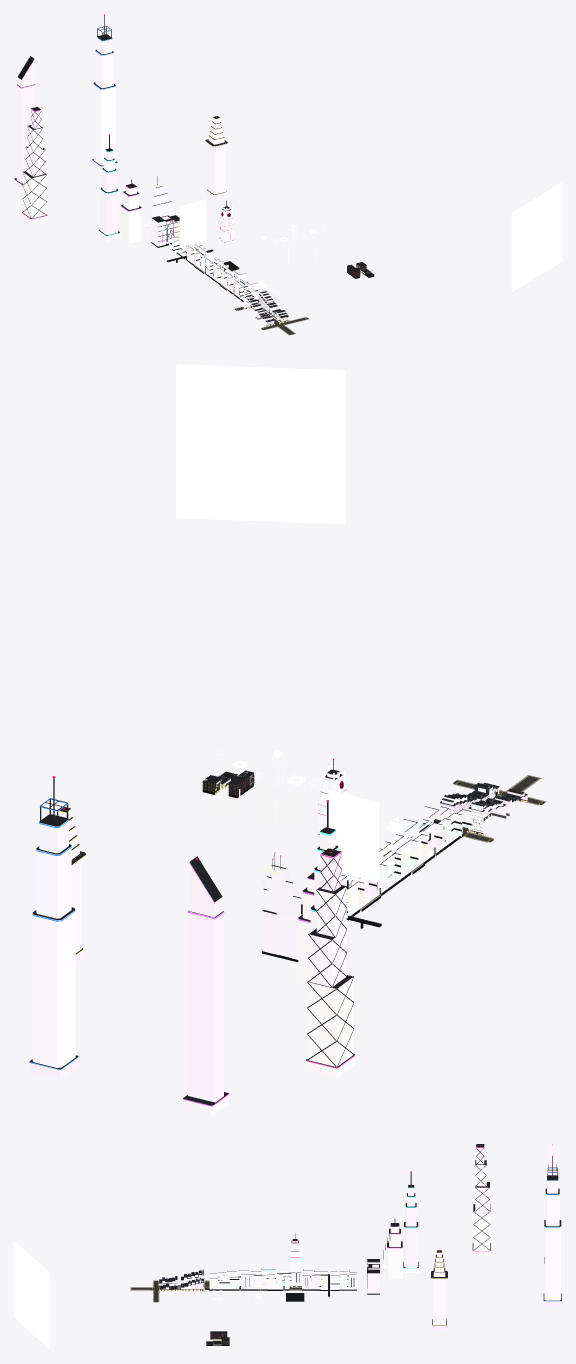
File: world-phone.glb
3 renders of one model, top to bottom at view 1: azimuth 30°, elevation 25°; view 2: azimuth 150°, elevation 25°; view 3: azimuth 270°, elevation 25°, orthographic. The views are drawn at different scales.
Visible parts, largest first — view 1: skyline_facade, moon_disc, far_facade_end, far_facade, holo_figure, skyline_roof, avenue_facade, skyline_metal, far_glow, far_dark, avenue_trim, far_trim; view 2: skyline_facade, moon_disc, far_facade, far_facade_end, holo_figure, skyline_roof, skyline_metal, avenue_facade, far_glow; view 3: skyline_facade, moon_disc, far_facade, far_facade_end, skyline_roof, far_dark, far_trim, far_glow, skyline_metal, avenue_facade, avenue_roof, far_roof (+1 smaller).
Part boxes in pixels (left/top/right/bottom): skyline_facade: left=14, top=37, right=226, bottom=240; moon_disc: left=511, top=182, right=561, bottom=291; far_facade_end: left=121, top=186, right=179, bottom=246; far_facade: left=172, top=232, right=259, bottom=300; holo_figure: left=179, top=199, right=205, bottom=247; skyline_roof: left=14, top=34, right=227, bottom=235; avenue_facade: left=243, top=292, right=288, bottom=324; skyline_metal: left=22, top=15, right=226, bottom=218; far_glow: left=218, top=204, right=235, bottom=241; far_dark: left=151, top=186, right=243, bottom=301; avenue_trim: left=244, top=291, right=289, bottom=326; far_trim: left=166, top=212, right=258, bottom=296; skyline_facade: left=29, top=809, right=355, bottom=1115; moon_disc: left=176, top=364, right=345, bottom=524; far_facade: left=341, top=807, right=471, bottom=925; far_facade_end: left=261, top=865, right=314, bottom=983; holo_figure: left=328, top=790, right=379, bottom=882; skyline_roof: left=29, top=807, right=354, bottom=1105; skyline_metal: left=40, top=778, right=353, bottom=1067; avenue_facade: left=440, top=787, right=527, bottom=832; far_glow: left=316, top=764, right=417, bottom=862; skyline_facade: left=403, top=1146, right=561, bottom=1330; moon_disc: left=14, top=1241, right=49, bottom=1349; far_facade: left=209, top=1270, right=356, bottom=1289; far_facade_end: left=367, top=1226, right=402, bottom=1293; skyline_roof: left=403, top=1144, right=561, bottom=1325; far_dark: left=209, top=1238, right=387, bottom=1301; far_trim: left=154, top=1251, right=356, bottom=1301; far_glow: left=288, top=1236, right=301, bottom=1272; skyline_metal: left=410, top=1148, right=557, bottom=1278; avenue_facade: left=159, top=1272, right=203, bottom=1289; avenue_roof: left=159, top=1270, right=203, bottom=1289; far_roof: left=291, top=1223, right=402, bottom=1273.
Size of the model in its own units: 1229 by 575 by 1936.
Materials: 47 (7 with a texture image).
